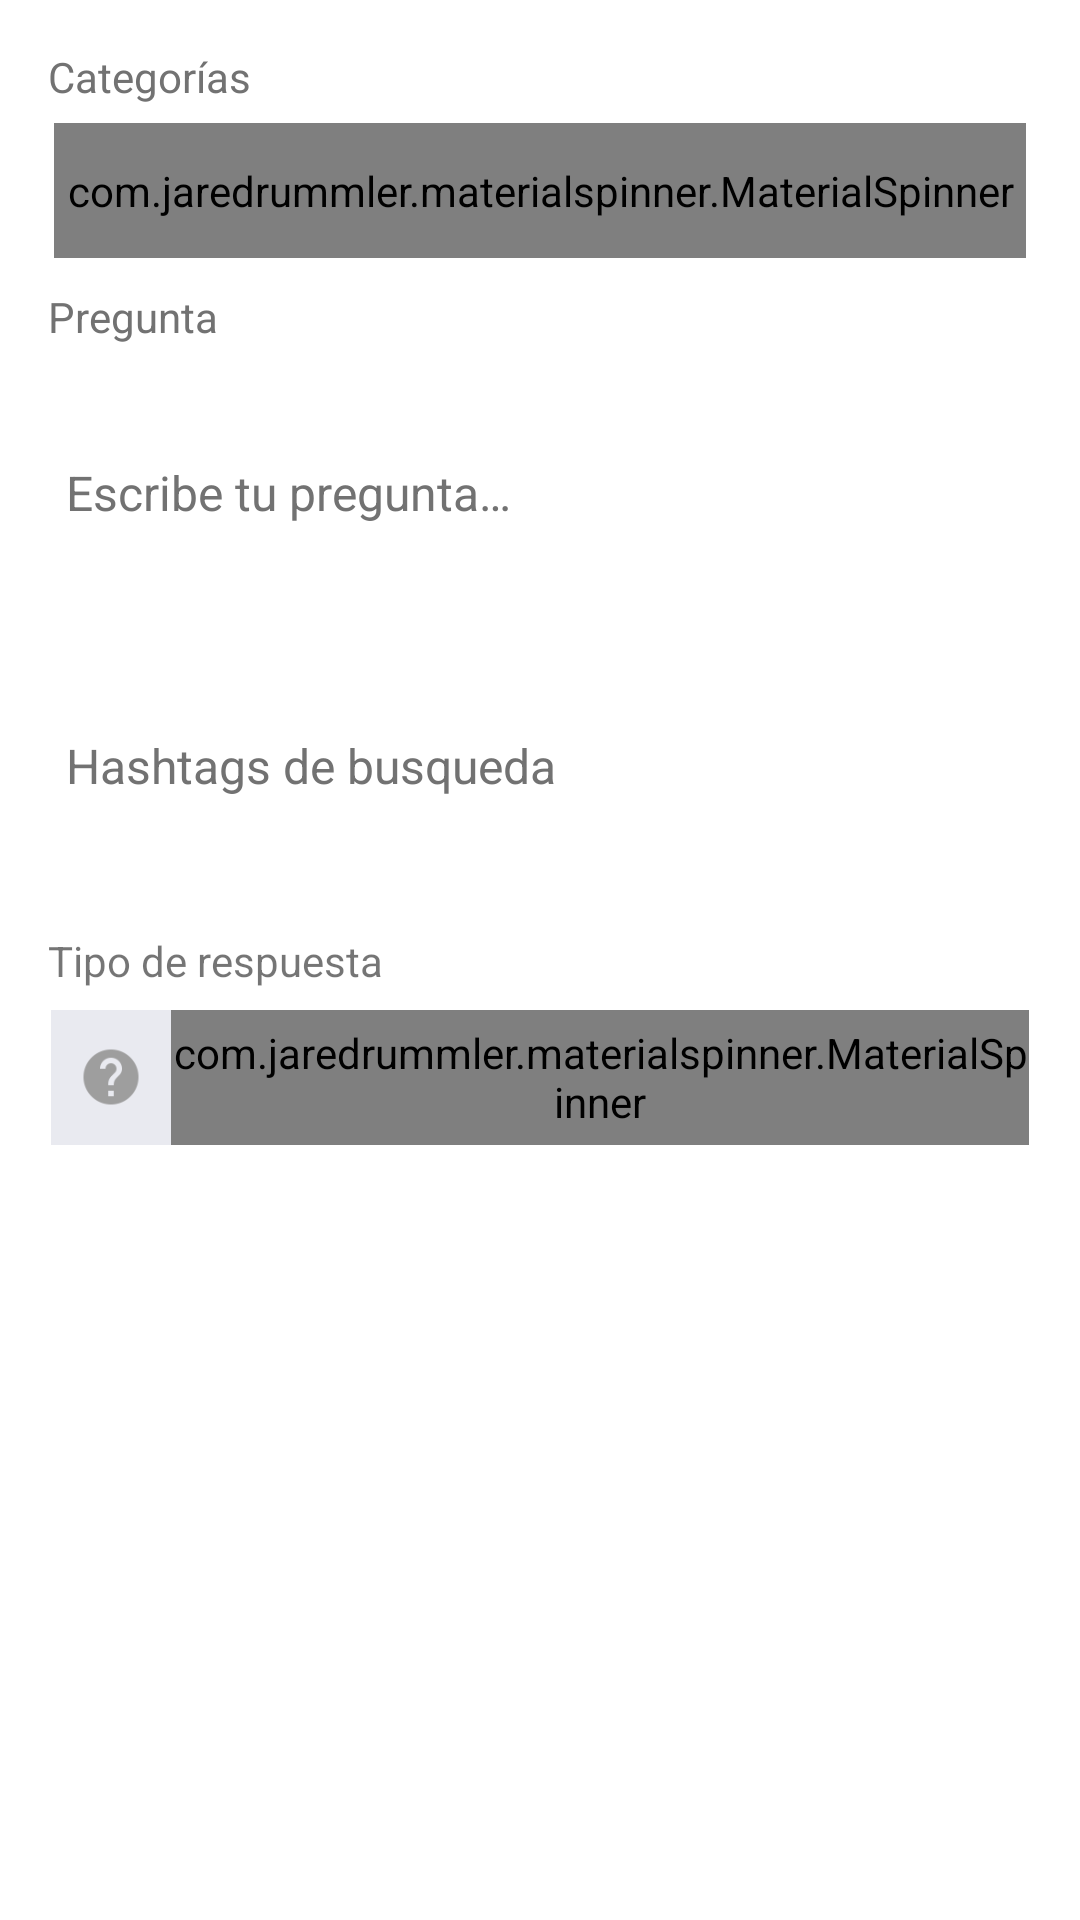

Where icons sit on this 1080px×1920px app screen, as box(x1, y1, x2, y2):
help: box(83, 1049, 139, 1105)
